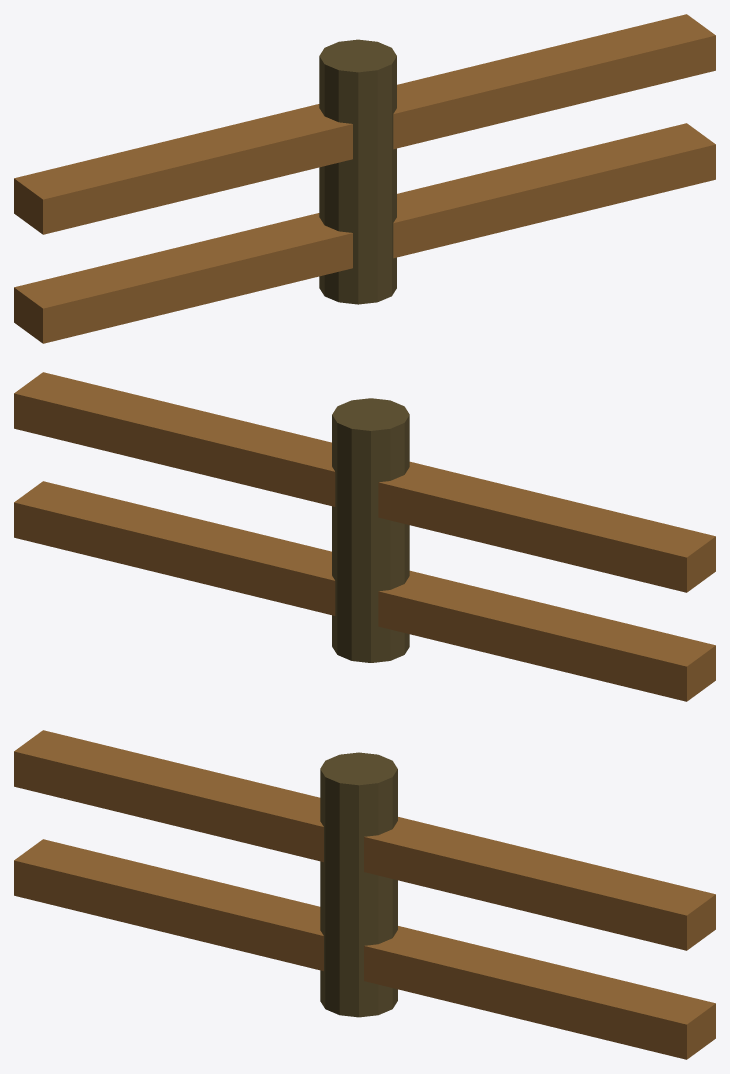
File: FenceFull.fbx
3 renders of one model, top to bottom at view 1: azimuth 30°, elevation 25°; view 2: azimuth 150°, elevation 25°; view 3: azimuth 330°, elevation 25°, orthographic.
Parts seen in each view (by area): view 1: Fence Bar 2; view 2: Fence Bar 2; view 3: Fence Bar 2.
Boxes of the visible parts, bbox=[...] form: Fence Bar 2: bbox=[14, 14, 715, 343]; Fence Bar 2: bbox=[14, 372, 715, 701]; Fence Bar 2: bbox=[14, 730, 715, 1059].
Size of the model in its own units: 500 by 165 by 50.
